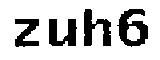6: (117, 5, 151, 50)
h: (81, 6, 114, 49)
u: (46, 15, 80, 49)
z: (9, 15, 42, 49)
